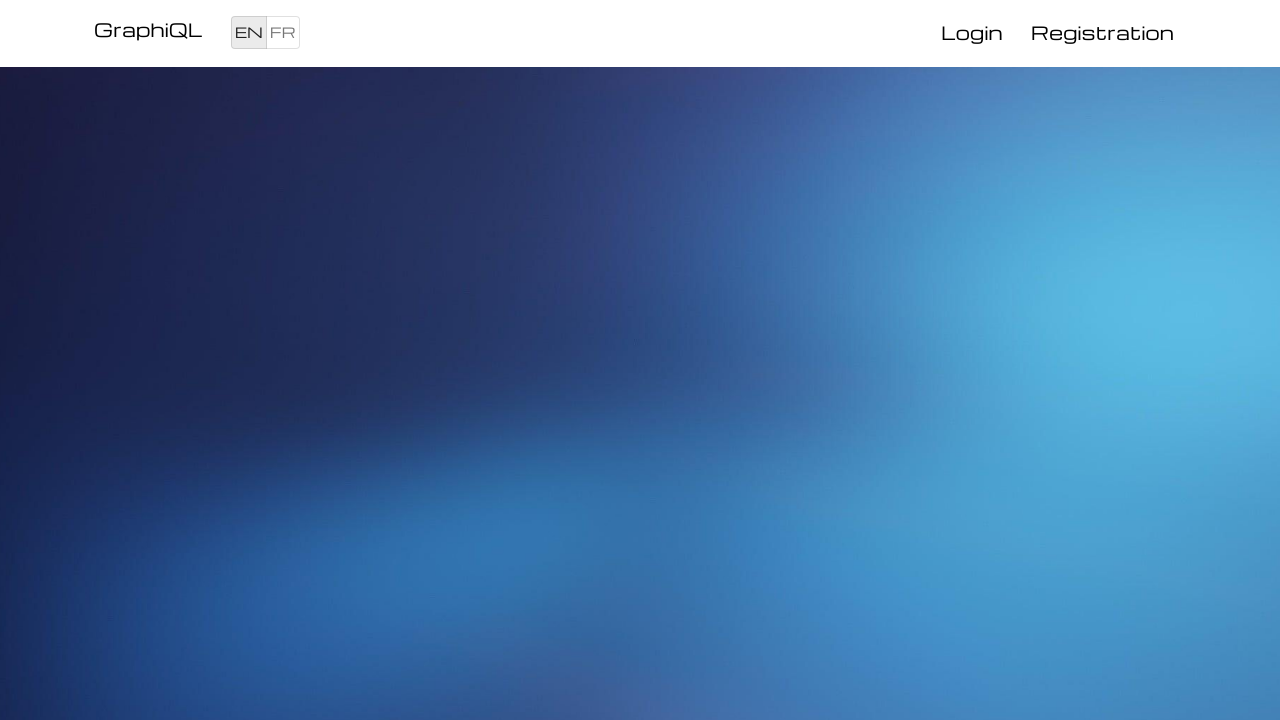
it: Header › should switch language to French
This screenshot has width=1280, height=720.
Expected: the link "Login" is shown, [941, 19, 1003, 46]
Click the button "FR".
click(283, 32)  # box [266, 16, 300, 48]
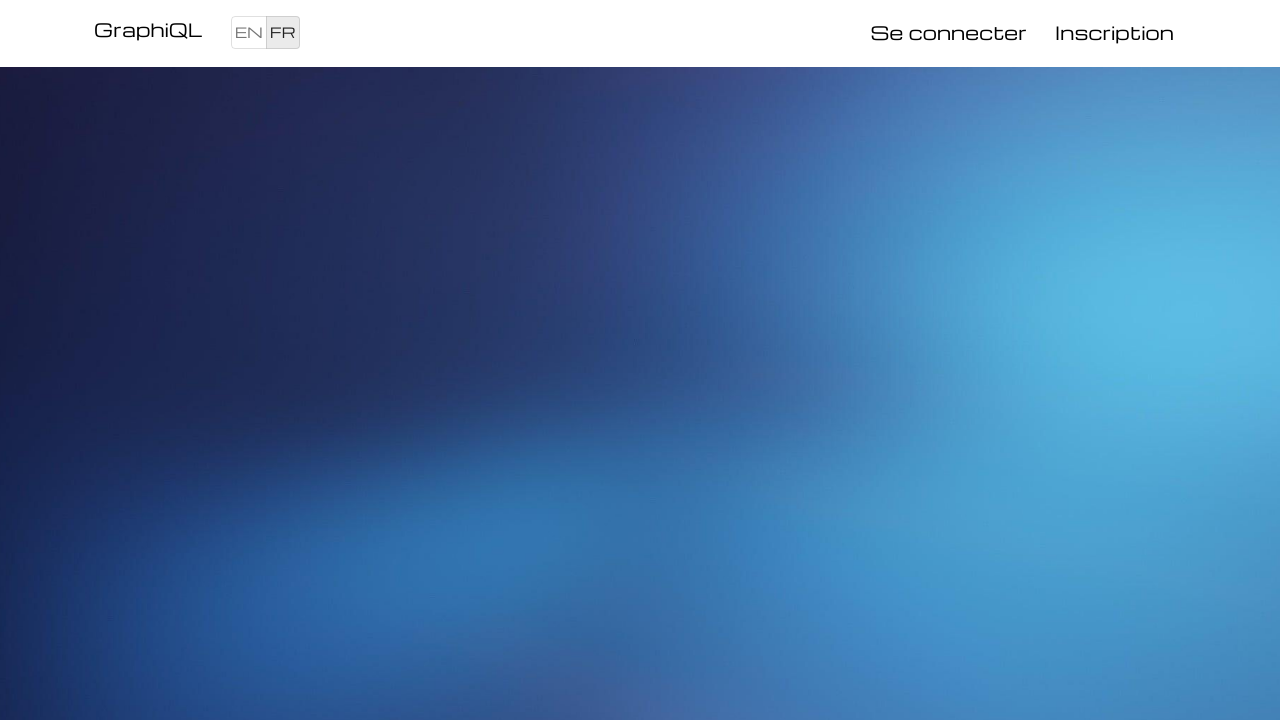
Expected: the link "Se connecter" is shown, [870, 19, 1027, 46]
